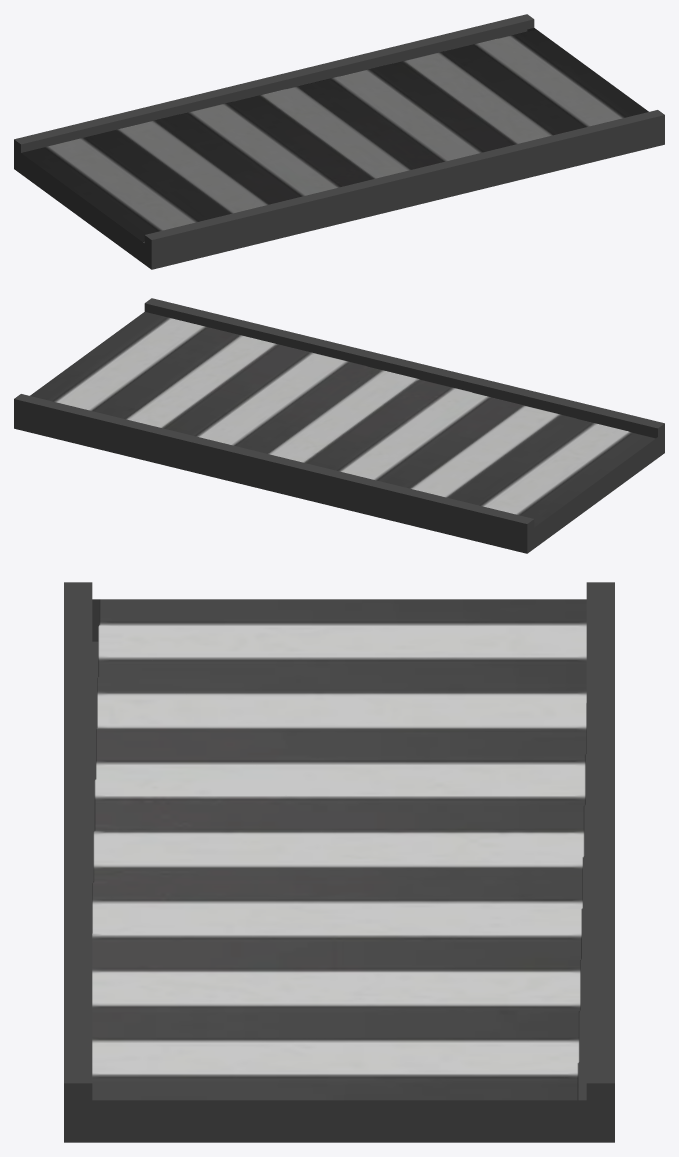
The model's file is road crossing.fbx.
3 views of the same model, one above another, from view 1: azimuth 30°, elevation 25°; view 2: azimuth 150°, elevation 25°; view 3: azimuth 270°, elevation 25° (orthographic). The views are drawn at different scales.
Visible parts, largest first — view 1: road crossing; view 2: road crossing; view 3: road crossing.
Part boxes in pixels (<box>): road crossing: <box>14,14,664,269</box>; road crossing: <box>14,298,664,553</box>; road crossing: <box>64,582,614,1142</box>.
Size of the model in its own units: 728 by 40.29 by 339.
